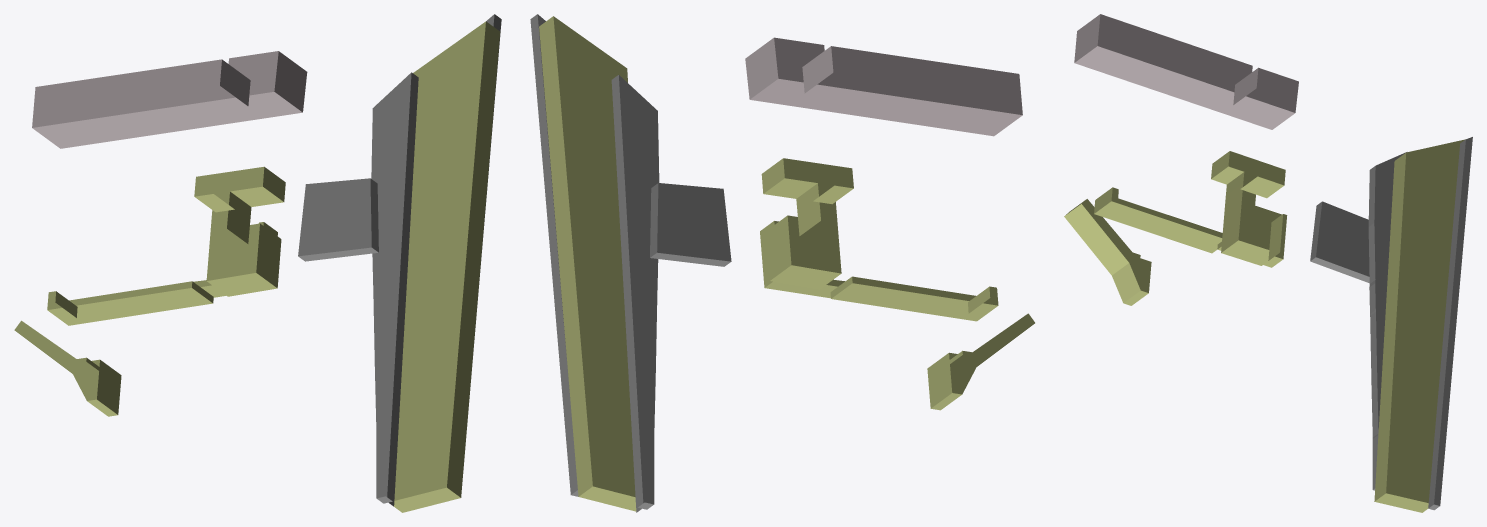
The picture shows the model from 3 angles, left to right: view 1: azimuth 30°, elevation 25°; view 2: azimuth 150°, elevation 25°; view 3: azimuth 330°, elevation 25°; orthographic projection. The views are drawn at different scales.
Visible parts, largest first — view 1: 0_2_0_1_1_1_1_0; view 2: 0_2_0_1_1_1_1_0; view 3: 0_2_0_1_1_1_1_0.
Boxes of the visible parts, left/top/right/bottom form: 0_2_0_1_1_1_1_0: left=14, top=14, right=501, bottom=512; 0_2_0_1_1_1_1_0: left=530, top=14, right=1034, bottom=512; 0_2_0_1_1_1_1_0: left=1064, top=14, right=1472, bottom=512.
Size of the model in its own units: 116 by 116 by 12.39.
